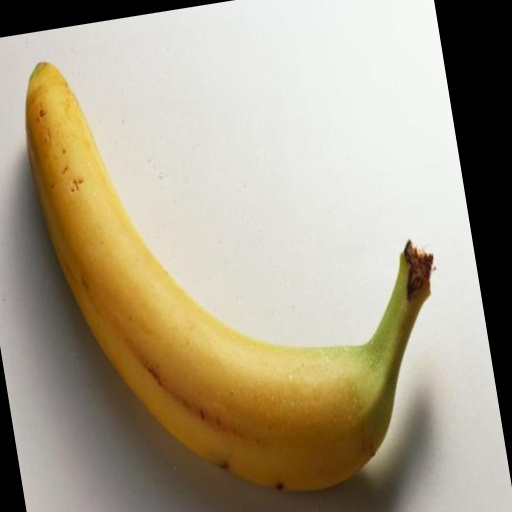fruit: (25, 63, 431, 490)
